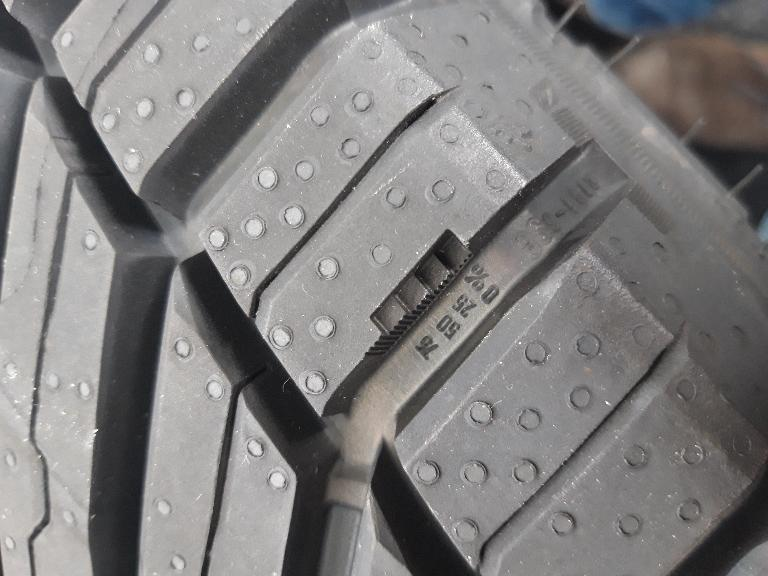temoin:100: (360, 224, 479, 359)
